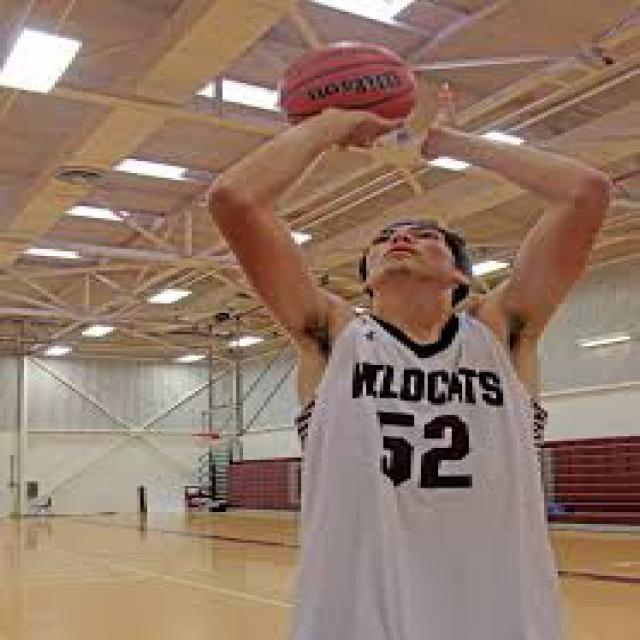basketball: (280, 40, 418, 140)
